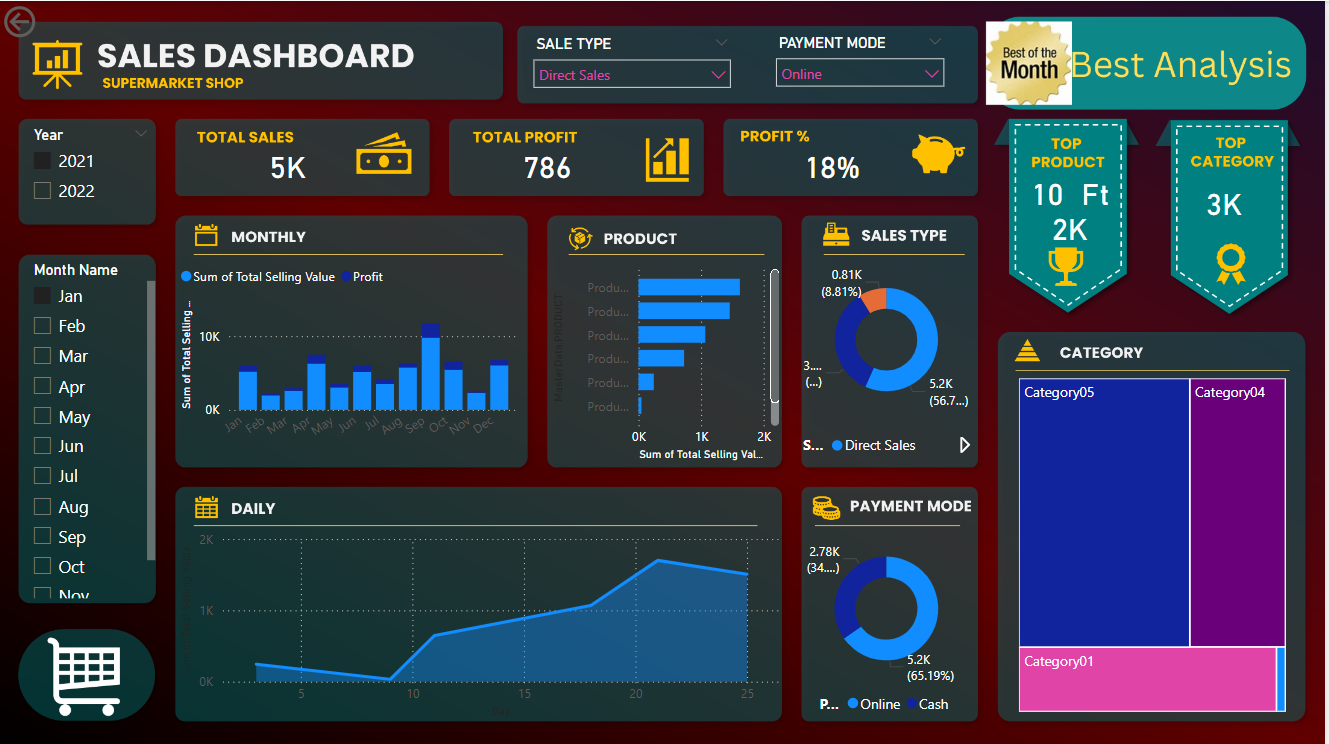

The dashboard page shown, as its layout file describes it:
{"tool":"powerbi","page":{"name":"Page 1","canvas":[1280,720],"ordinal":0},"visuals":[{"type":"slicer","fields":{"Values":["InputData.Year"]},"box":[20,115.7,135.7,102.9],"z":0},{"type":"slicer","fields":{"Values":["InputData.Month Name"]},"box":[20,245.7,135.7,335.7],"z":1000},{"type":"slicer","fields":{"Values":["InputData.SALE TYPE"]},"box":[505.5,27.7,211.1,68.8],"z":2000},{"type":"slicer","fields":{"Values":["InputData.PAYMENT MODE"]},"box":[740,27,183,68],"z":3000},{"type":"card","fields":{"Values":["Sum(InputData.Total Selling Value)"]},"box":[180,120,197.1,78.6],"z":4000},{"type":"card","fields":{"Values":["Min(InputData.MasterData.UOM)"]},"box":[955.7,144.3,205.7,80],"z":5000},{"type":"card","fields":{"Values":["InputData.Profit"]},"box":[427.1,120,204.3,78.6],"z":6000},{"type":"card","fields":{"Values":["Sum(InputData.Total Selling Value)"]},"box":[922.9,180,221.4,78.6],"z":7000},{"type":"card","fields":{"Values":["Sum(InputData.QUANTITY)"]},"box":[901.4,145.7,221.4,78.6],"z":8000},{"type":"card","fields":{"Values":["InputData.Profit %"]},"box":[707.1,120,194.3,78.6],"z":9000},{"type":"card","fields":{"Values":["Sum(InputData.Total Selling Value)"]},"box":[1092.5,158.8,178.8,71.2],"z":10000},{"type":"actionButton","box":[0,0,100,40],"z":11000},{"type":"columnChart","fields":{"Category":["InputData.Month Name"],"Y":["Sum(InputData.Total Selling Value)","InputData.Profit"]},"box":[170,245.7,335.7,195.7],"z":12000},{"type":"clusteredBarChart","fields":{"Y":["Sum(InputData.Total Selling Value)"],"Category":["InputData.MasterData.PRODUCT"]},"box":[530,245.7,228.6,202.9],"z":13000},{"type":"areaChart","fields":{"Y":["Sum(InputData.Total Selling Value)"],"Category":["InputData.Day"]},"box":[170,505.7,588.6,191.4],"z":14000},{"type":"donutChart","fields":{"Y":["Sum(InputData.Total Selling Value)"],"Category":["InputData.SALE TYPE"]},"box":[771.4,235.7,171.4,212.9],"z":15000},{"type":"donutChart","fields":{"Y":["Sum(InputData.Total Selling Value)"],"Category":["InputData.PAYMENT MODE"]},"box":[771.4,505.7,171.4,191.4],"z":16000},{"type":"treemap","fields":{"Group":["InputData.MasterData.CATEGORY"],"Values":["Sum(InputData.Total Selling Value)"]},"box":[980,360,267.1,331.4],"z":17000}]}

Visuals, with their boxes in screenshot pixels (x1, y1, x2, y2), scaled from the page's 1280x720 canvas onto the 1329x744 screenshot:
slicer - InputData.Year: {"x1": 21, "y1": 120, "x2": 162, "y2": 226}
slicer - InputData.Month Name: {"x1": 21, "y1": 254, "x2": 162, "y2": 601}
slicer - InputData.SALE TYPE: {"x1": 525, "y1": 29, "x2": 744, "y2": 100}
slicer - InputData.PAYMENT MODE: {"x1": 768, "y1": 28, "x2": 958, "y2": 98}
card - Sum(InputData.Total Selling Value): {"x1": 187, "y1": 124, "x2": 392, "y2": 205}
card - Min(InputData.MasterData.UOM): {"x1": 992, "y1": 149, "x2": 1206, "y2": 232}
card - InputData.Profit: {"x1": 443, "y1": 124, "x2": 656, "y2": 205}
card - Sum(InputData.Total Selling Value): {"x1": 958, "y1": 186, "x2": 1188, "y2": 267}
card - Sum(InputData.QUANTITY): {"x1": 936, "y1": 151, "x2": 1166, "y2": 232}
card - InputData.Profit %: {"x1": 734, "y1": 124, "x2": 936, "y2": 205}
card - Sum(InputData.Total Selling Value): {"x1": 1134, "y1": 164, "x2": 1320, "y2": 238}
actionButton: {"x1": 0, "y1": 0, "x2": 104, "y2": 41}
columnChart - InputData.Month Name x Sum(InputData.Total Selling Value): {"x1": 177, "y1": 254, "x2": 525, "y2": 456}
clusteredBarChart - Sum(InputData.Total Selling Value) x InputData.MasterData.PRODUCT: {"x1": 550, "y1": 254, "x2": 788, "y2": 464}
areaChart - Sum(InputData.Total Selling Value) x InputData.Day: {"x1": 177, "y1": 523, "x2": 788, "y2": 720}
donutChart - Sum(InputData.Total Selling Value) x InputData.SALE TYPE: {"x1": 801, "y1": 244, "x2": 979, "y2": 464}
donutChart - Sum(InputData.Total Selling Value) x InputData.PAYMENT MODE: {"x1": 801, "y1": 523, "x2": 979, "y2": 720}
treemap - InputData.MasterData.CATEGORY x Sum(InputData.Total Selling Value): {"x1": 1018, "y1": 372, "x2": 1295, "y2": 714}
